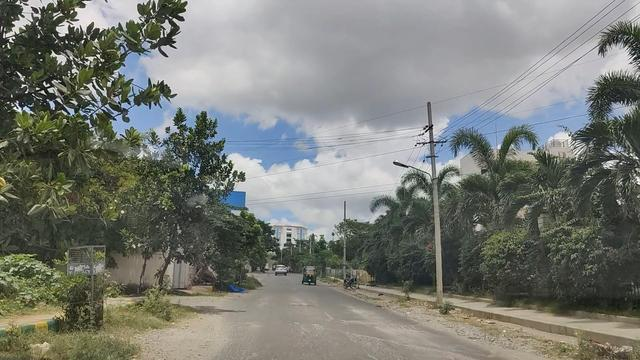RoadDamages: (307, 313, 425, 355)
